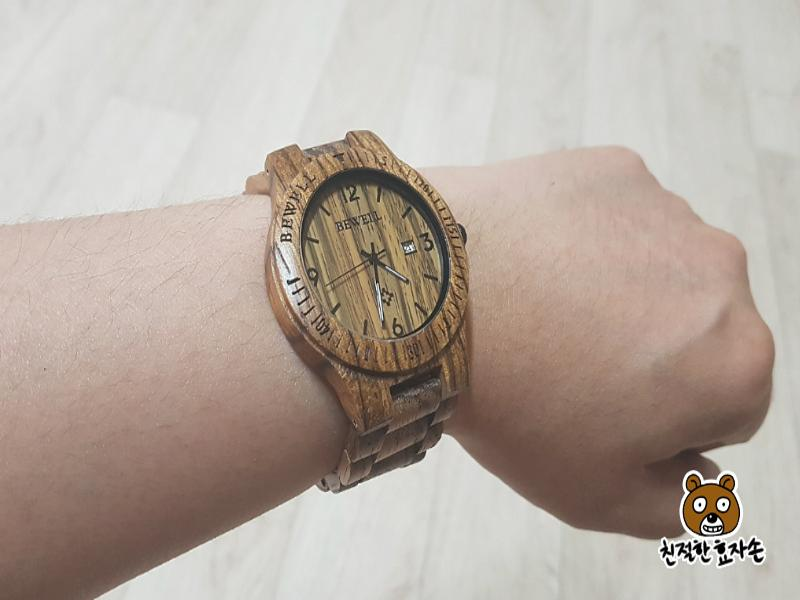watch: (243, 132, 472, 494)
